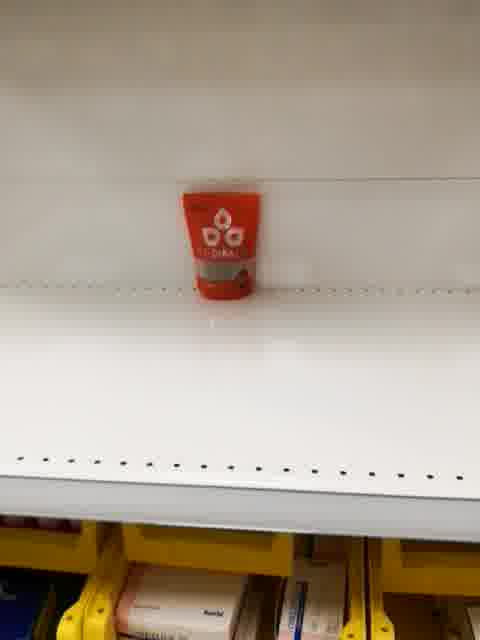whitechia: (180, 189, 268, 302)
